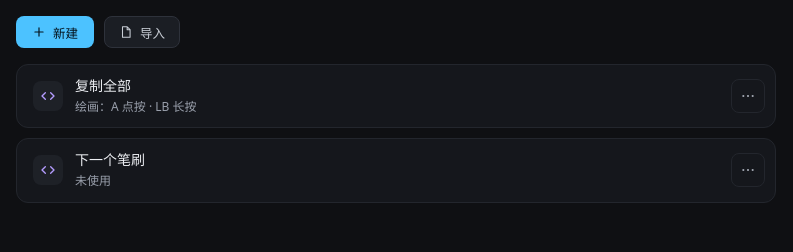
Test case: scripts page: list › shows one card per script with the keys that run it
Check: the element "复制全部" shows "A 点按", box [75,98,196,115]
Check: the element "复制全部" shows "长按", box [75,98,196,115]
Click the 1st button with test id "script-menu" at point(748, 96), box [731,79,765,113]
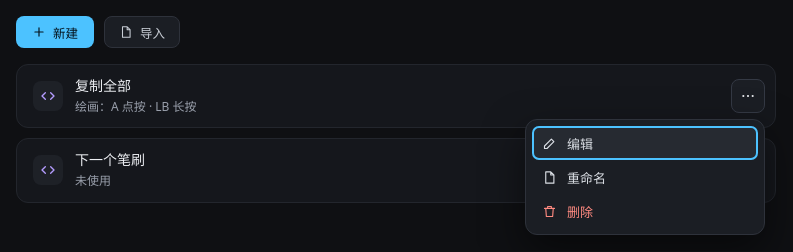
Check: the button "新建" is enabled, box [16,16,94,48]
Check: the menu items read "编辑", "重命名", "删除", in this order, box [532,126,758,160]; [532,160,758,194]; [532,194,758,228]
